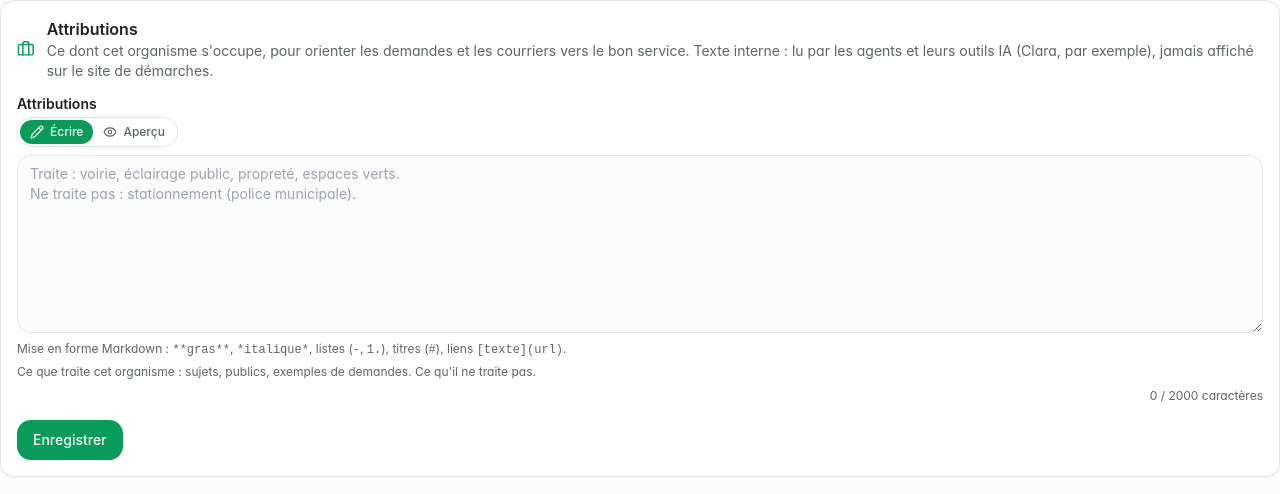
Scenario: AttributionsSection › borne la saisie à 2 000 caractères et compte ce qui est tapé
This screenshot has width=1280, height=494.
Expected: the text "0 / 2000 caractères" is shown, [1150,388,1263,404]
Replace the text in the text box labelled "Attributions" with "Voirie": (640, 244) [17,155,1263,333]
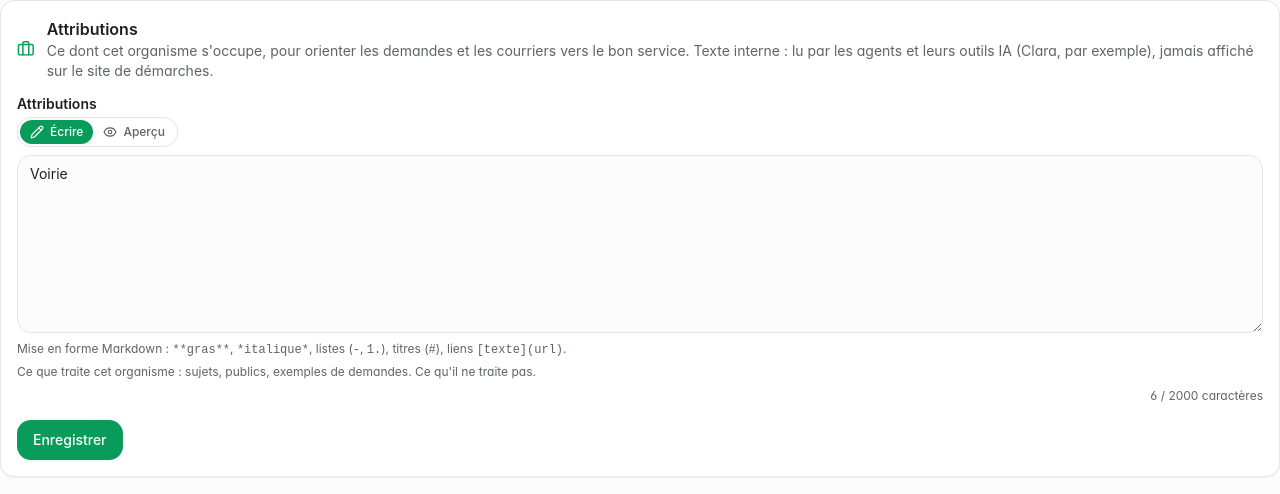
Expected: the text "6 / 2000 caractères" is shown, [1150,388,1263,404]
